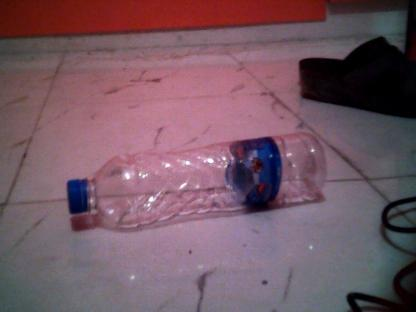Plastic Bottle: (65, 136, 339, 218)
